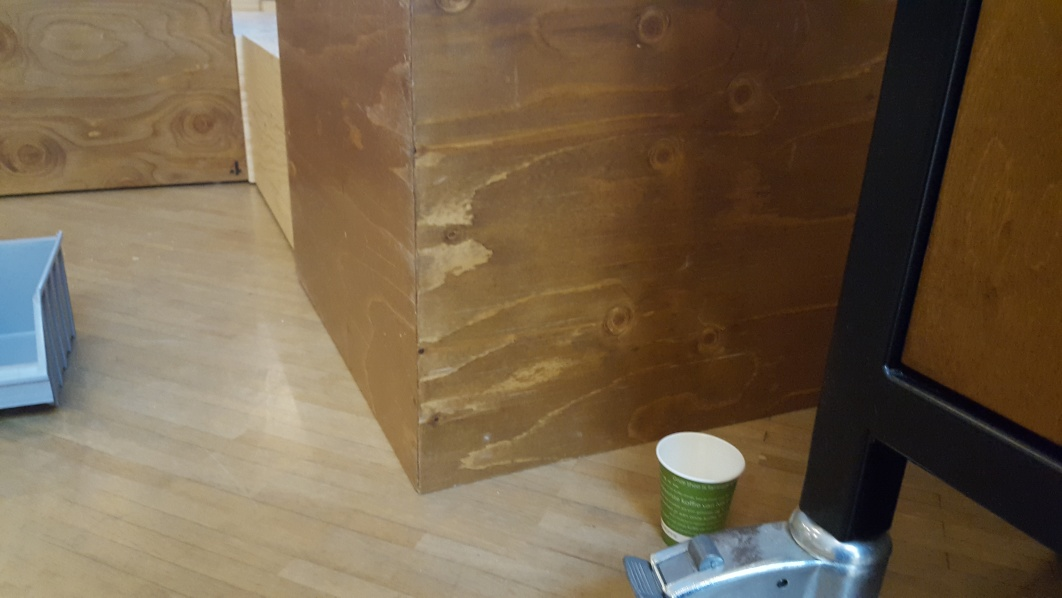cup: (657, 430, 746, 551)
